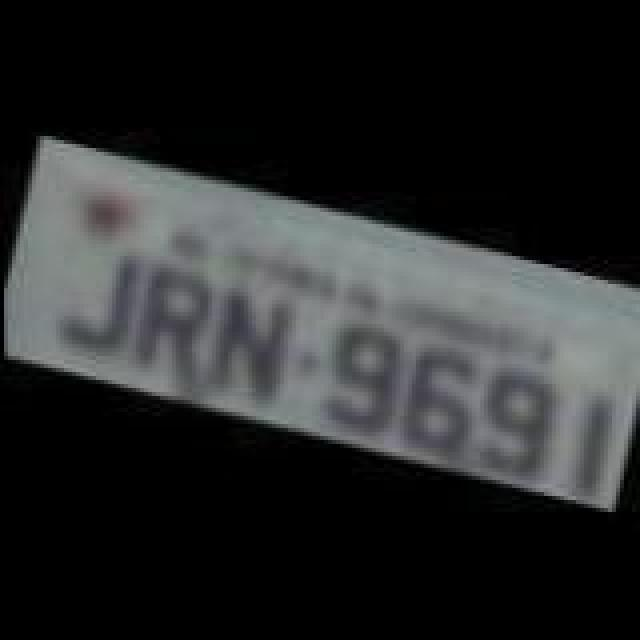1: (556, 380, 628, 500)
6: (386, 338, 490, 462)
9: (458, 360, 562, 484), (316, 318, 412, 438)
J: (50, 238, 150, 362)
N: (192, 284, 304, 412)
R: (126, 262, 226, 386)
